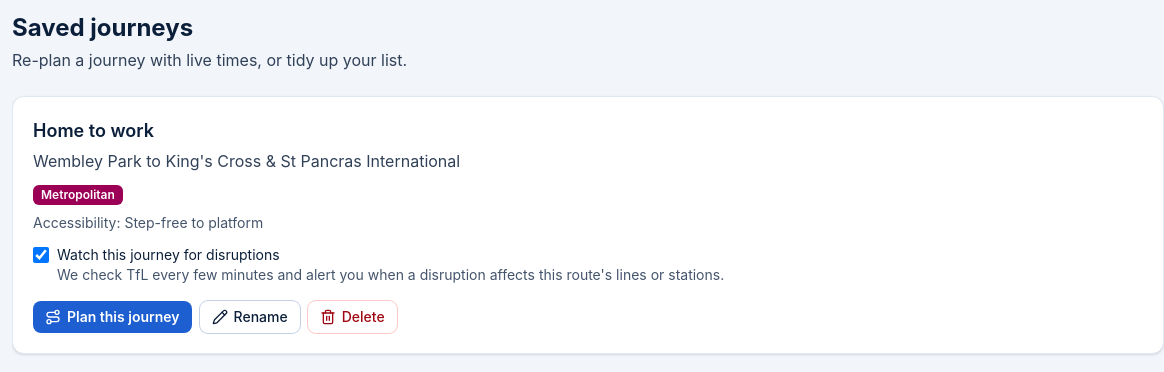
Scenario: SavedJourneysPage › asks for confirmation before deleting
The image size is (1164, 372).
Click the button with aria-label "Delete Home to work" at (352, 317), box [308,301,397,333]
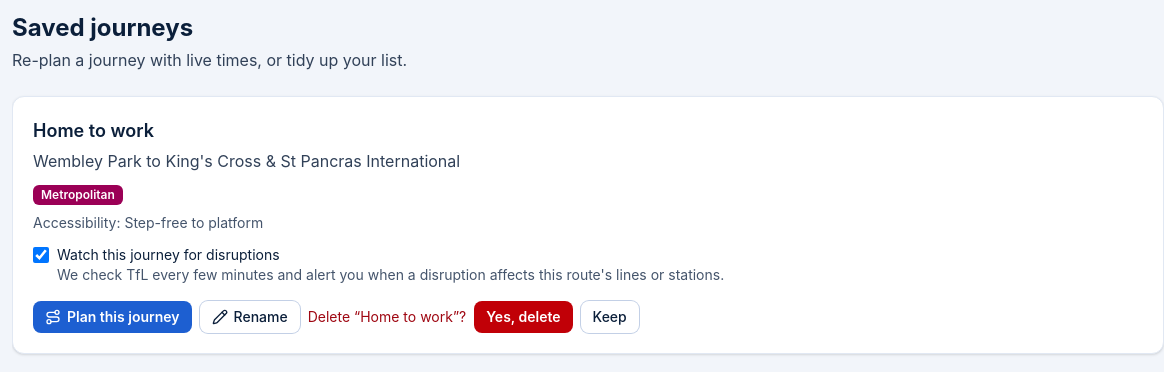
Click the button "Yes, delete" at (523, 317), box [474,301,573,333]
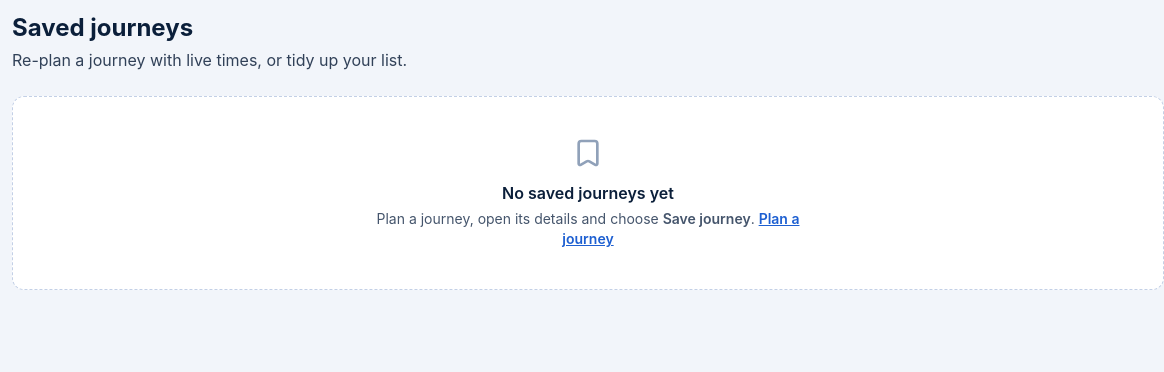
Expected: the text "No saved journeys yet" is shown, [502,183,674,203]
